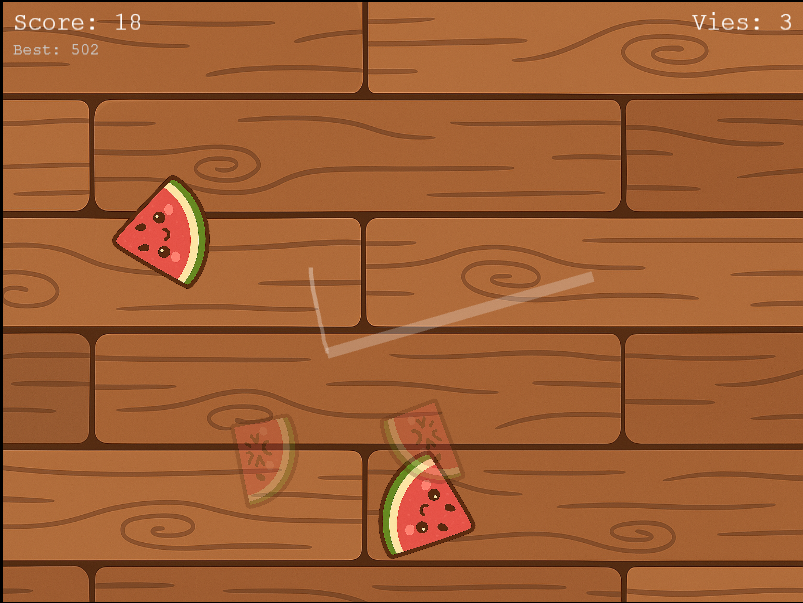fruit: (108, 173, 215, 293), (367, 450, 483, 560)
